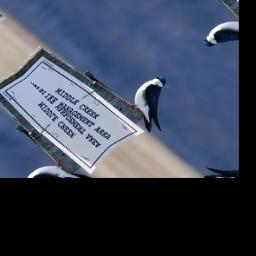Swallow: (115, 71, 196, 136)
